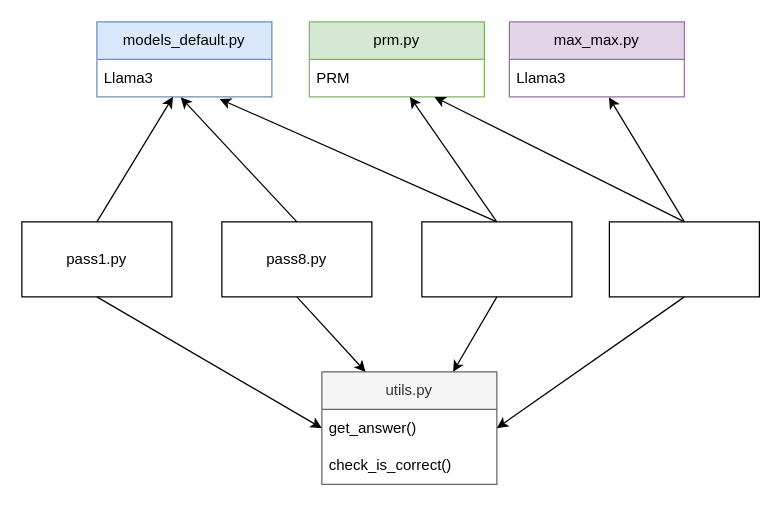
Some shapes in this 781 by 506 pixel diagram are drawn without their labels. The shapes that lost their labels are listed below. From the top down, each one's centre as x and y in pixels, then its label:
point (496, 259): best_of_n.py
point (683, 259): beam.py
